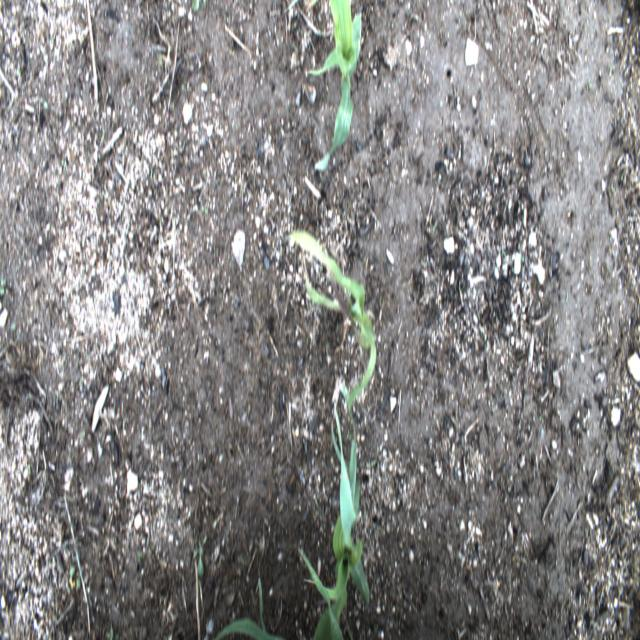crop: (297, 399, 372, 638), (291, 232, 377, 416), (307, 3, 363, 171), (215, 574, 291, 637)
weed: (189, 527, 209, 588), (65, 554, 87, 599), (32, 84, 52, 110), (193, 197, 210, 225), (0, 270, 12, 308), (103, 616, 123, 636), (98, 122, 110, 150), (190, 1, 208, 13)
